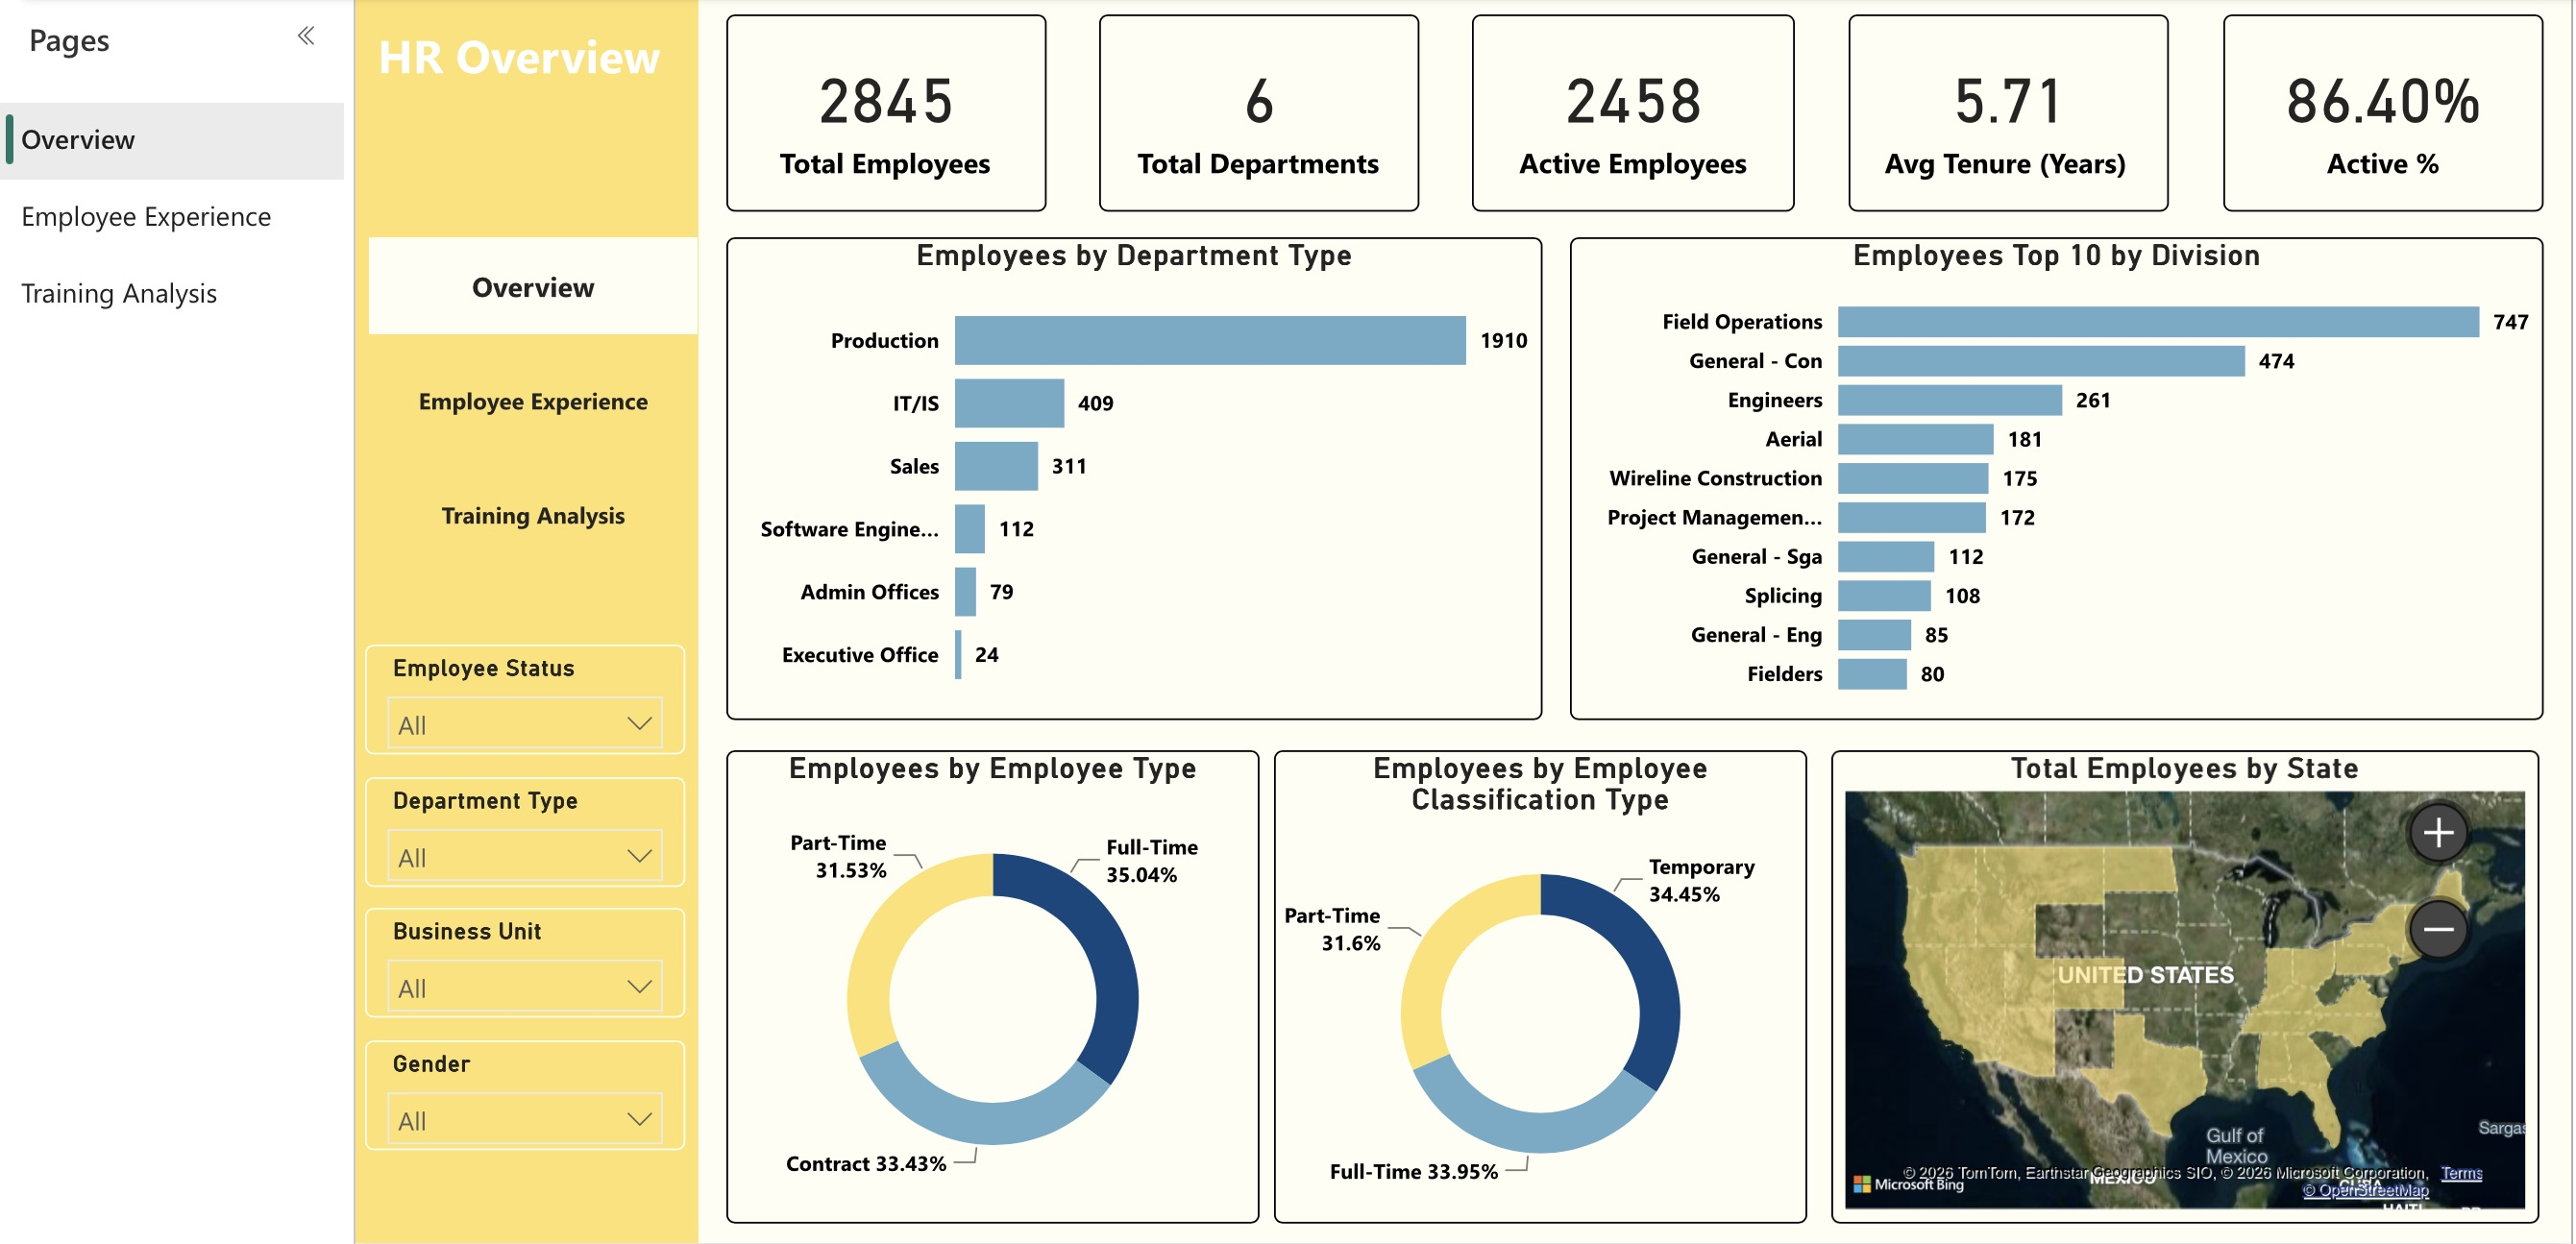

The page's visual inventory and layout, read from the dashboard file:
{"tool":"powerbi","page":{"name":"Overview","canvas":[1280,720],"ordinal":0},"visuals":[{"type":"shape","box":[0,0,198.1,720],"z":0},{"type":"card","fields":{"Values":["Measure Table.Total Employees"]},"box":[214,10.1,185.1,114.2],"z":1000},{"type":"card","fields":{"Values":["Measure Table.Total Departments"]},"box":[429.8,10.1,185.1,114.2],"z":2000},{"type":"card","fields":{"Values":["Measure Table.Active Employees"]},"box":[645.5,10.1,186.5,114.2],"z":3000},{"type":"card","fields":{"Values":["Measure Table.Avg Tenure (Years)"]},"box":[862.8,10.1,185.1,114.2],"z":4000},{"type":"card","fields":{"Values":["Measure Table.Active %"]},"box":[1078.6,10.1,185.1,114.2],"z":5000},{"type":"clusteredBarChart","title":"Employees by Department Type","fields":{"Category":["Cleaned_HR_Data_Analysis.DepartmentType"],"Y":["Measure Table.Total Employees"]},"box":[214,138.8,471.3,279],"z":6000},{"type":"clusteredBarChart","title":"Employees Top 10 by Division","fields":{"Category":["Cleaned_HR_Data_Analysis.Division"],"Y":["Measure Table.Total Employees"]},"box":[701.2,138.8,562.4,279],"z":7000},{"type":"donutChart","title":"Employees by Employee Type","fields":{"Category":["Cleaned_HR_Data_Analysis.EmployeeType"],"Y":["Measure Table.Total Employees"]},"box":[214,435.2,308,273.3],"z":8000},{"type":"donutChart","title":"Employees by Employee Classification Type","fields":{"Y":["Measure Table.Total Employees"],"Category":["Cleaned_HR_Data_Analysis.EmployeeClassificationType"]},"box":[530.6,435.2,308,273.3],"z":9000},{"type":"filledMap","fields":{"Category":["Cleaned_HR_Data_Analysis.State"]},"box":[853,435.2,409.2,273.3],"z":10000},{"type":"slicer","fields":{"Values":["Cleaned_HR_Data_Analysis.Training Program Name"]},"box":[5.8,374.5,185.1,63.6],"z":11000},{"type":"slicer","fields":{"Values":["Cleaned_HR_Data_Analysis.Training Type"]},"box":[5.8,450.6,185.1,63.6],"z":12000},{"type":"slicer","fields":{"Values":["Cleaned_HR_Data_Analysis.BusinessUnit"]},"box":[5.8,526.7,185.1,63.6],"z":13000},{"type":"slicer","fields":{"Values":["Cleaned_HR_Data_Analysis.GenderCode"]},"box":[5.8,602.9,185.1,63.6],"z":14000},{"type":"textbox","box":[7.2,10.1,185.1,50.6],"z":15000},{"type":"pageNavigator","box":[7.2,138.8,190.8,190.8],"z":16000}]}

Visuals, with their boxes on the page's 1280x720 design canvas (x1, y1, x2, y2). These are canvas units, not pixel positions in the 2576x1244 screenshot, which may show the page scaled, cropped or inside an application window:
shape: box(0, 0, 198, 720)
card - Measure Table.Total Employees: box(214, 10, 399, 124)
card - Measure Table.Total Departments: box(430, 10, 615, 124)
card - Measure Table.Active Employees: box(646, 10, 832, 124)
card - Measure Table.Avg Tenure (Years): box(863, 10, 1048, 124)
card - Measure Table.Active %: box(1079, 10, 1264, 124)
"Employees by Department Type" clusteredBarChart: box(214, 139, 685, 418)
"Employees Top 10 by Division" clusteredBarChart: box(701, 139, 1264, 418)
"Employees by Employee Type" donutChart: box(214, 435, 522, 708)
"Employees by Employee Classification Type" donutChart: box(531, 435, 839, 708)
filledMap - Cleaned_HR_Data_Analysis.State: box(853, 435, 1262, 708)
slicer - Cleaned_HR_Data_Analysis.Training Program Name: box(6, 374, 191, 438)
slicer - Cleaned_HR_Data_Analysis.Training Type: box(6, 451, 191, 514)
slicer - Cleaned_HR_Data_Analysis.BusinessUnit: box(6, 527, 191, 590)
slicer - Cleaned_HR_Data_Analysis.GenderCode: box(6, 603, 191, 666)
textbox: box(7, 10, 192, 61)
pageNavigator: box(7, 139, 198, 330)
